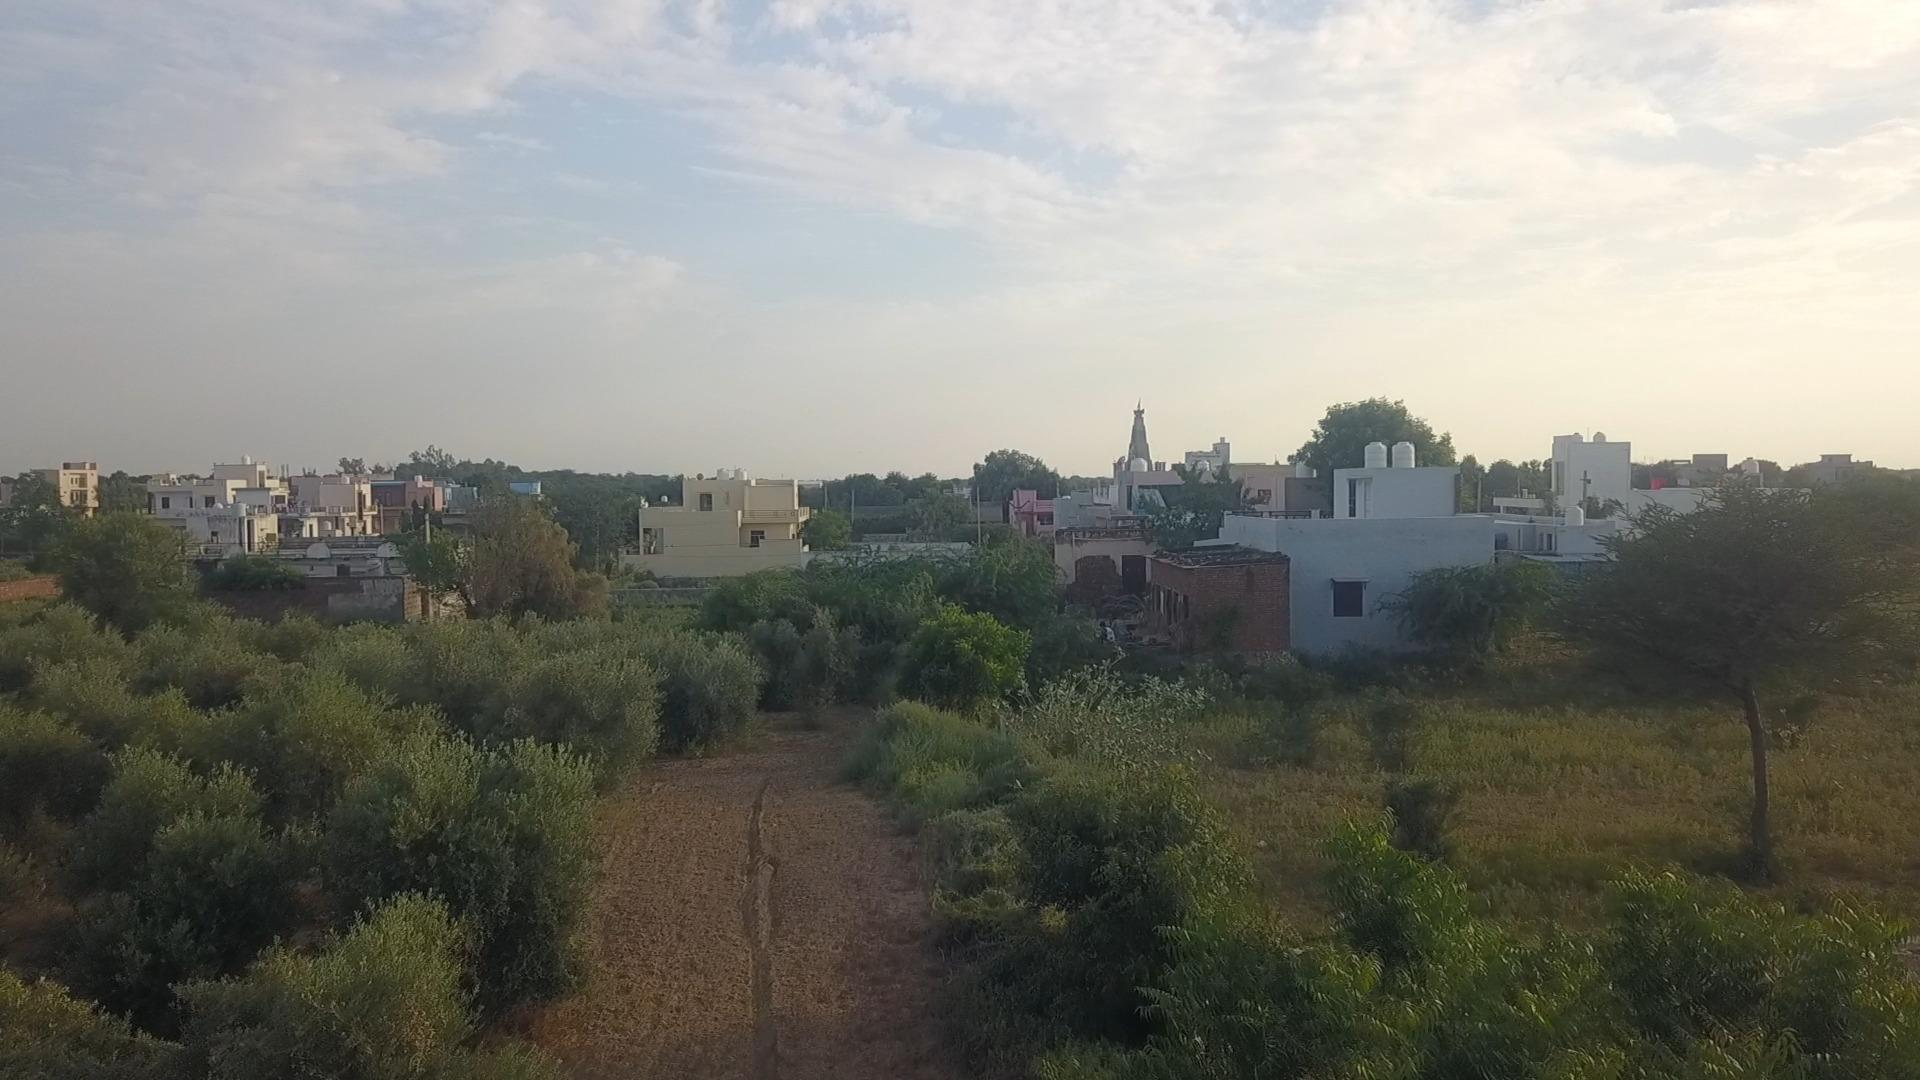canopy: (868, 678, 1919, 1079), (0, 604, 761, 1079)
road: (531, 713, 949, 1079)
